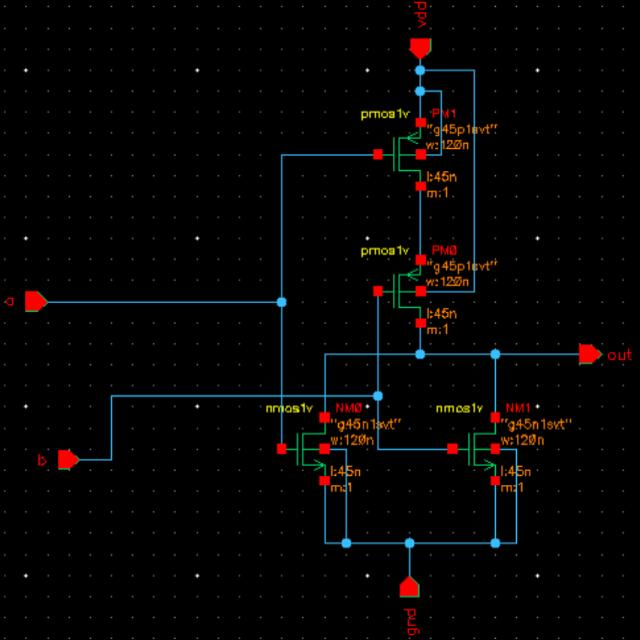nmos: (435, 400, 502, 491), (264, 402, 332, 488)
pmos: (359, 244, 428, 332), (360, 109, 427, 196)
